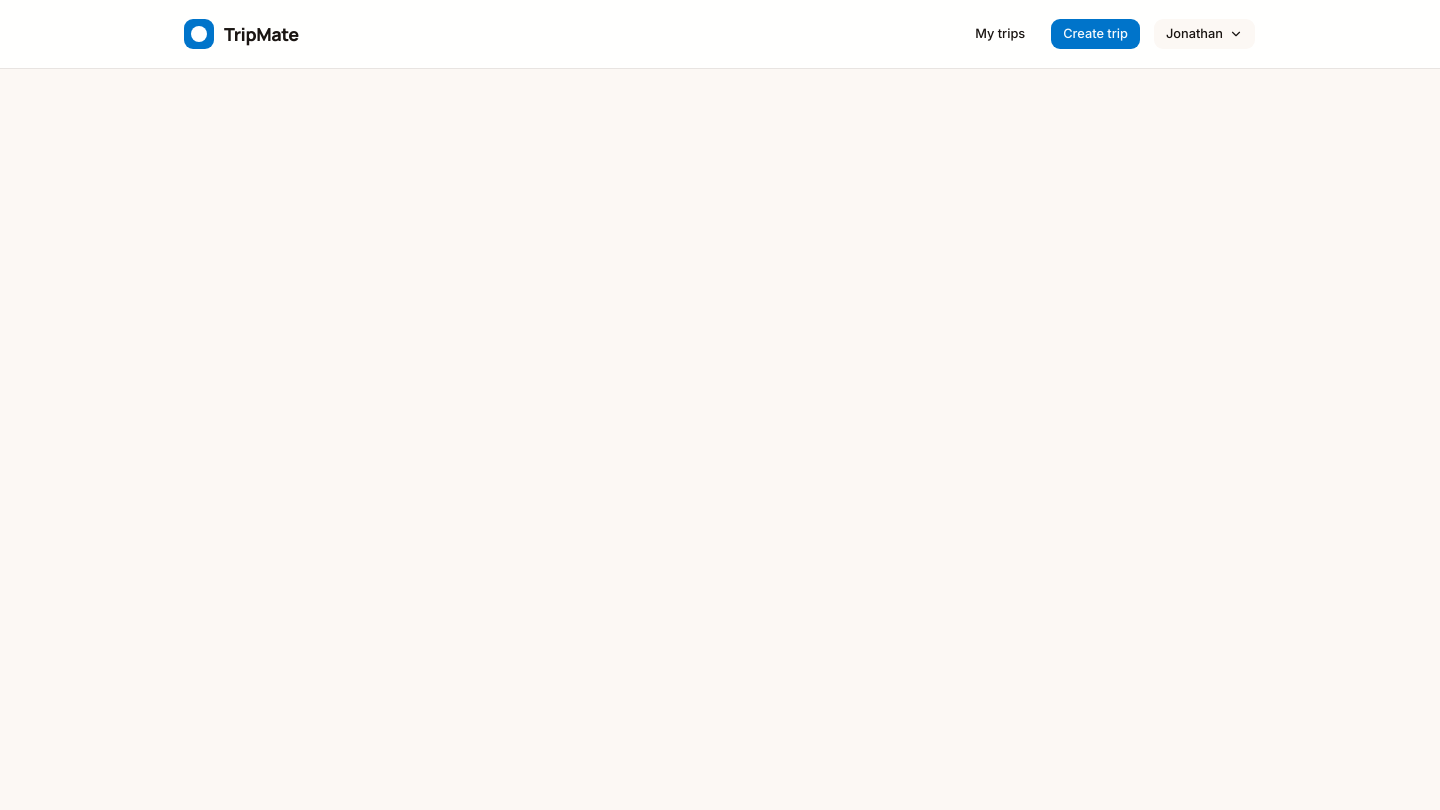
SiteHeader account menu › keeps the change-password dialog open after the menu that opened it closes
This screenshot has width=1440, height=810.
Click the button "Jonathan": (1204, 34) [1153,18,1256,50]
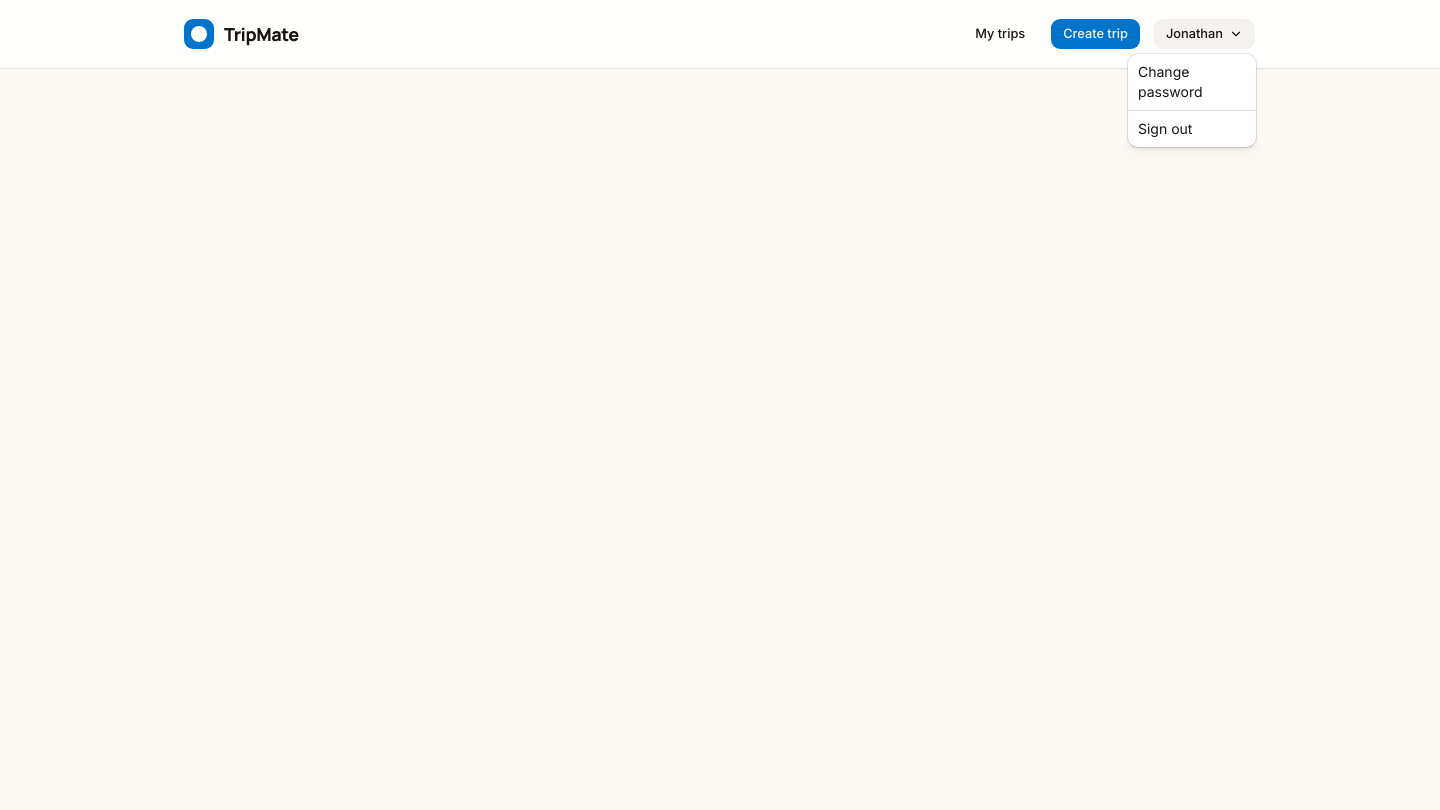
Click the menu item "Change password": (1170, 82) [1138,63,1203,100]
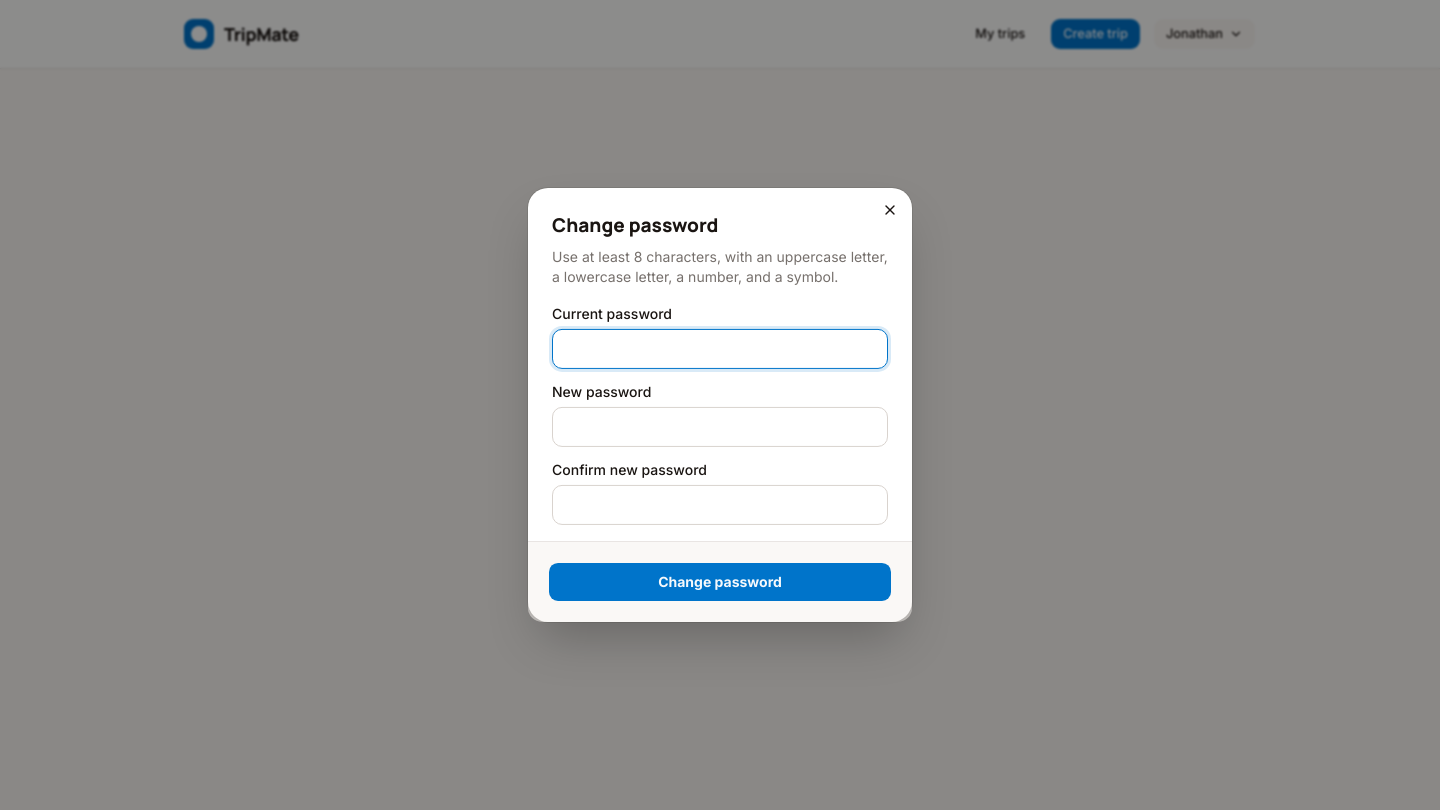
Result: the dialog shows "Change password" at [552,212,718,238]
Result: the menu is gone
Result: the dialog is shown at [528,188,912,622]
